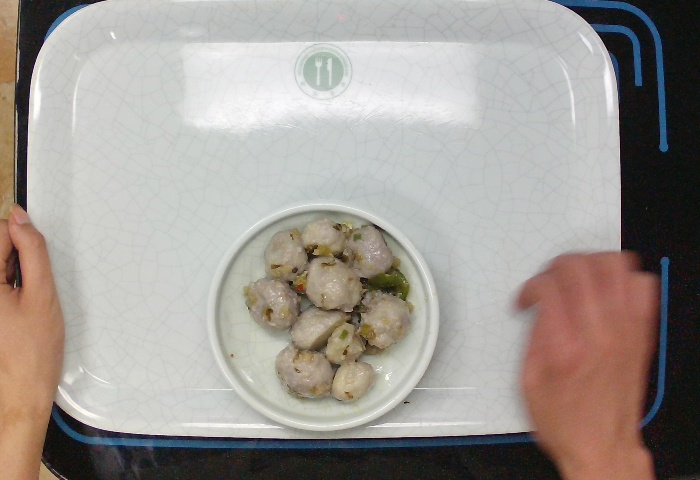JYsf-Xiao_Yuan_Pan: (205, 197, 443, 432)
